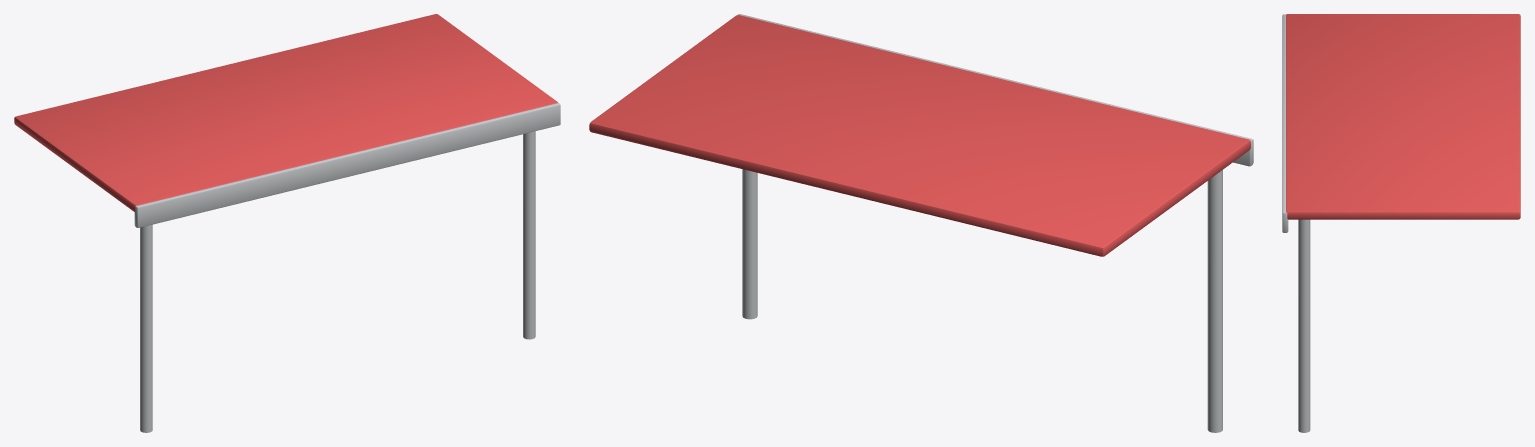
Rendered from auvent.glb.
3 renders of one model, left to right at view 1: azimuth 30°, elevation 25°; view 2: azimuth 150°, elevation 25°; view 3: azimuth 270°, elevation 25°, orthographic. The views are drawn at different scales.
Parts seen in each view (by area): view 1: auvent; view 2: auvent; view 3: auvent.
Boxes of the visible parts, x1,y1,x2,y2 form: auvent: [14, 14, 560, 432]; auvent: [589, 14, 1253, 432]; auvent: [1282, 14, 1520, 432].
Bounding box in the file's own units: 6.2 × 3.31 × 3.14.
